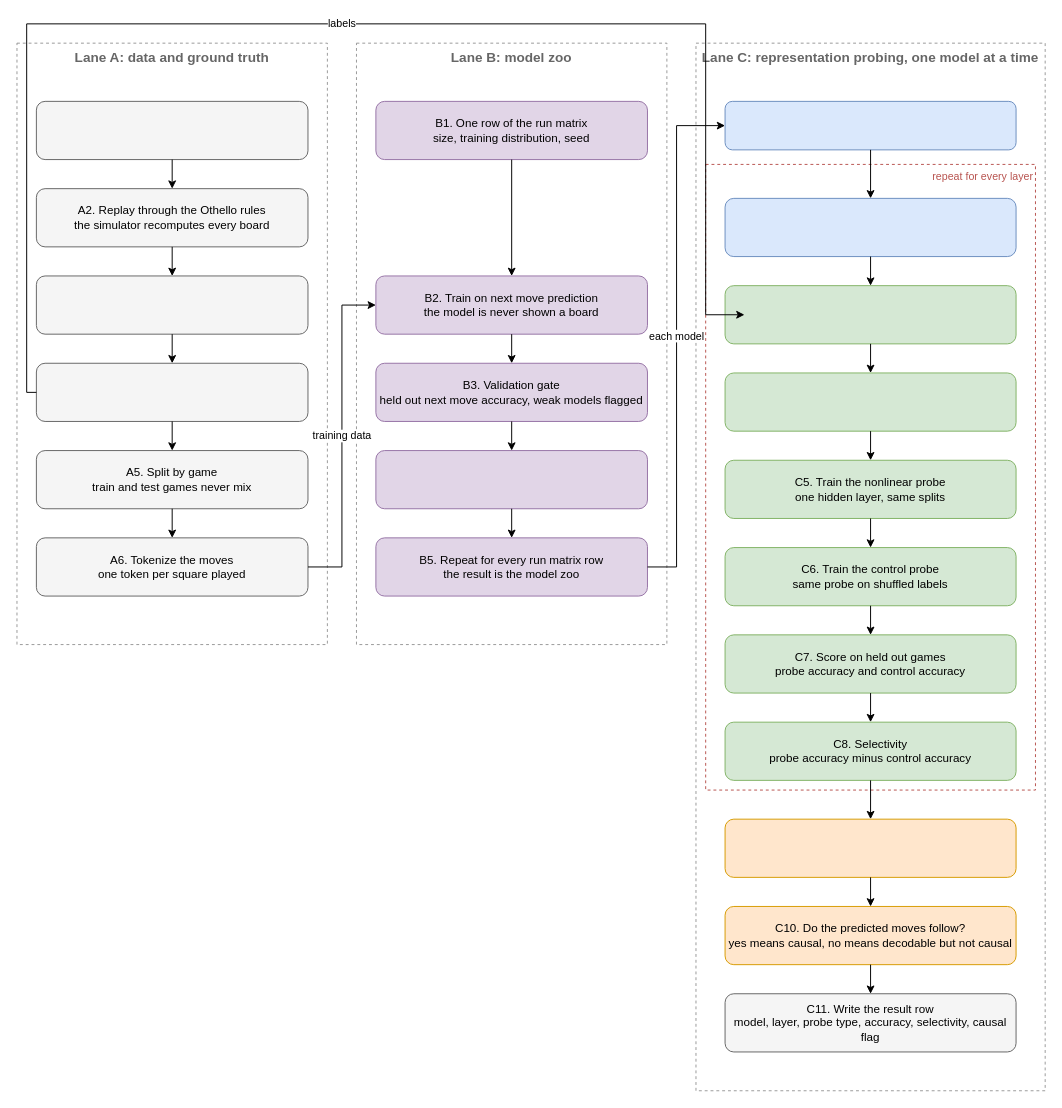
Image size: 1062x1108. Some labels were removed from this diagram. The shapes that lost their labels are listed below. From the top down, each one's centre as x and y in pixels, then its label:
[171,130]: A1. Raw Othello games championship and synthetic move lists
[870,125]: C1. Load one model from the registry
[870,227]: C2. Hook the activations at layer L the residual stream, one vector per move
[171,304]: A3. True board after every move this is the answer key
[870,314]: C3. Build the probe table one row: vector plus 64 square labels
[171,391]: A4. Relative labels per square mine, theirs, empty, not black and white
[870,401]: C4. Train the linear probe logistic regression, one per square
[511,479]: B4. Save checkpoint and config registry holds path, config hash, seed
[870,847]: C9. Causal patch edit the vector so one square flips
